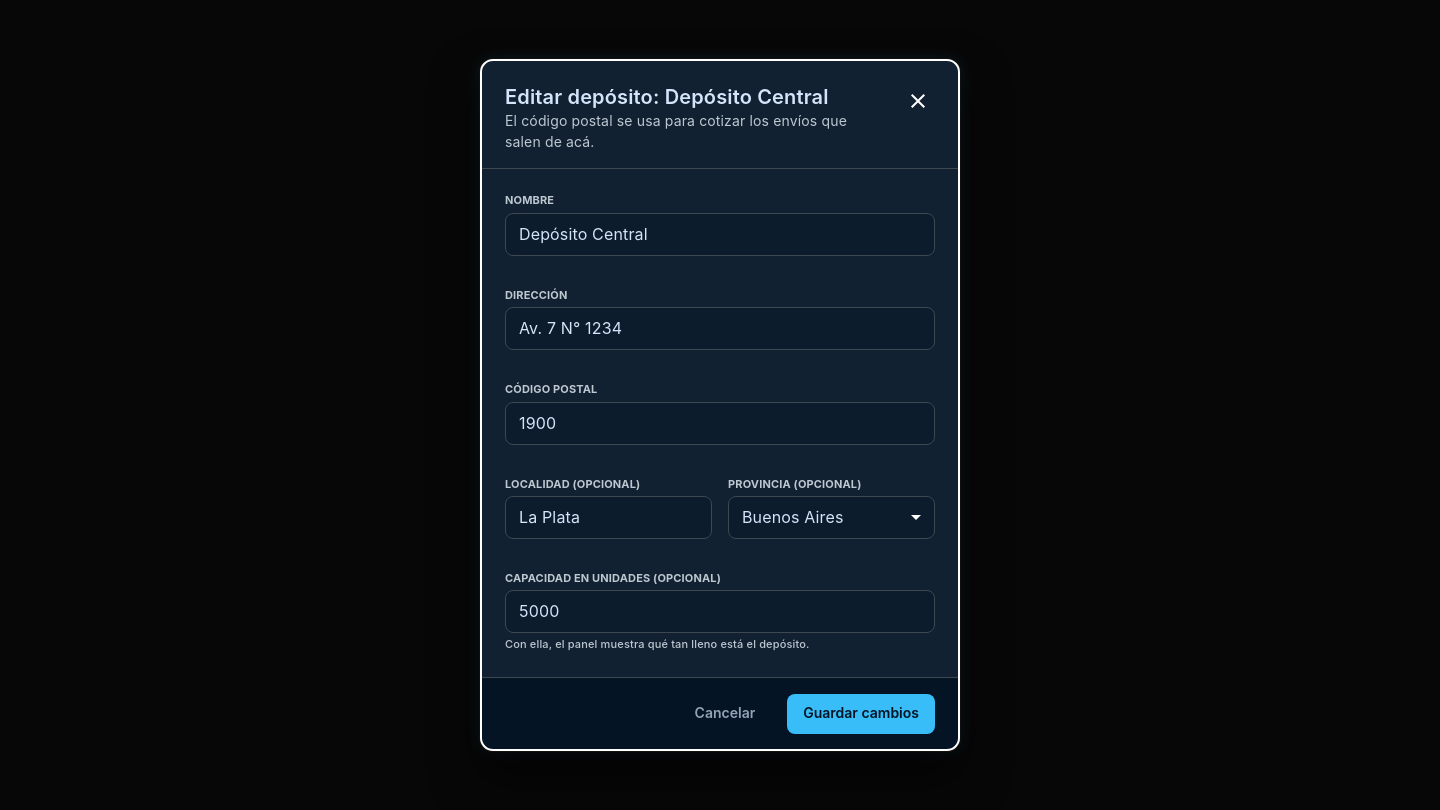
Test: WarehouseFormModal › the capacity › refuses a fraction or a thousands separator
Step 1. Type "1.500" into the 5th field → (720, 612), box [505,590,935,633]
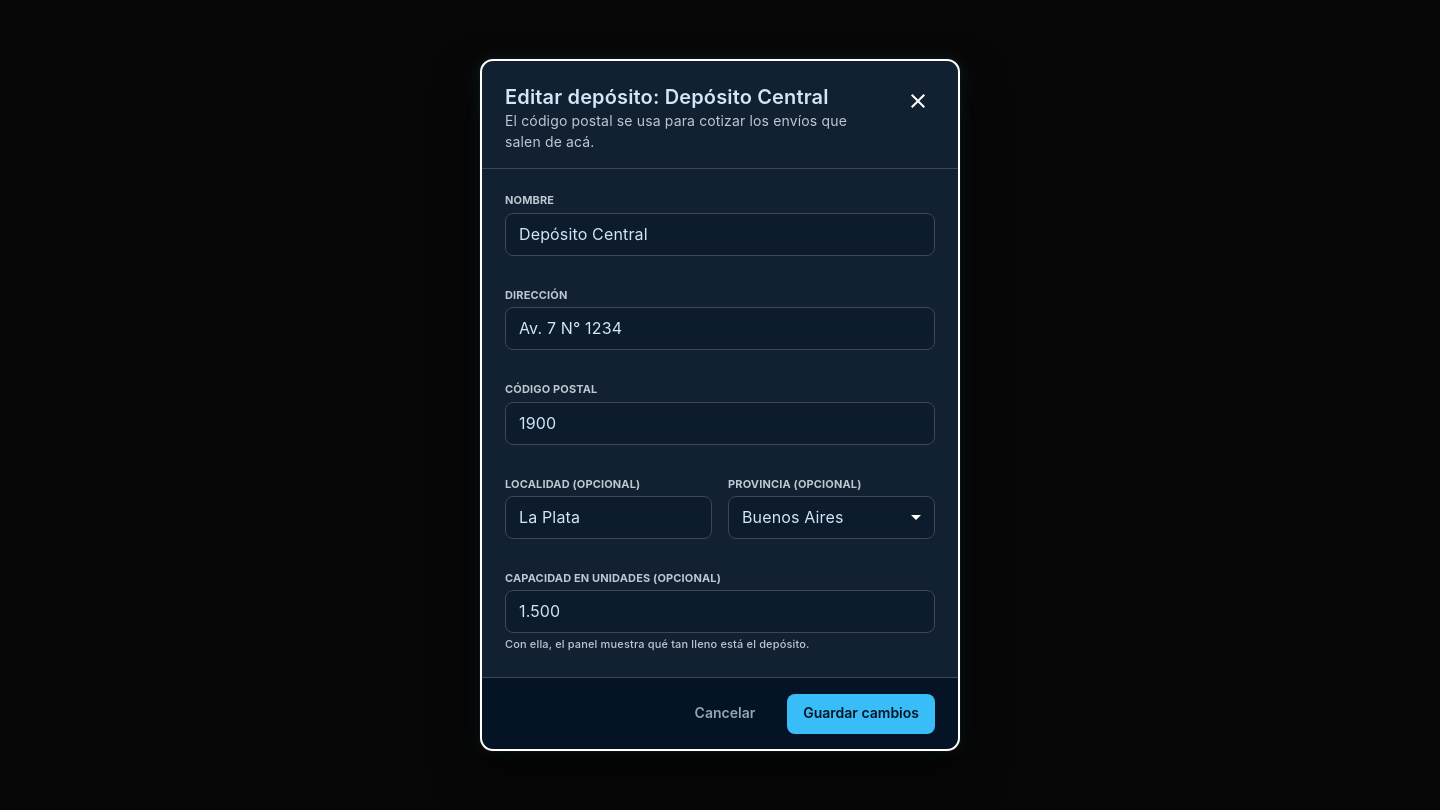
Step 2. Click the button "Guardar cambios" → (861, 714), box [787,694,935,734]
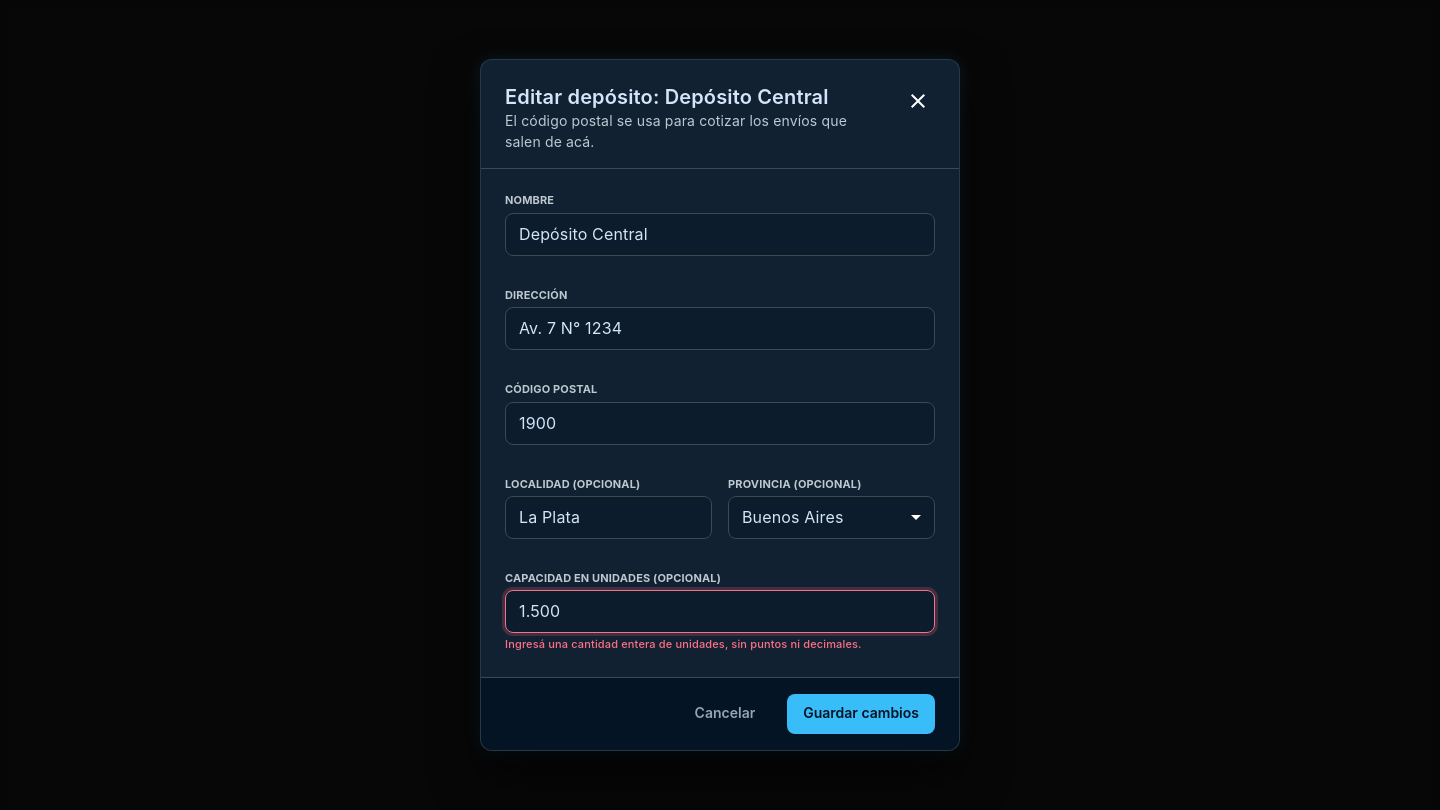
Check: the text "Ingresá una cantidad entera de unidades, sin puntos ni decimales." is shown, box [505,637,862,651]
